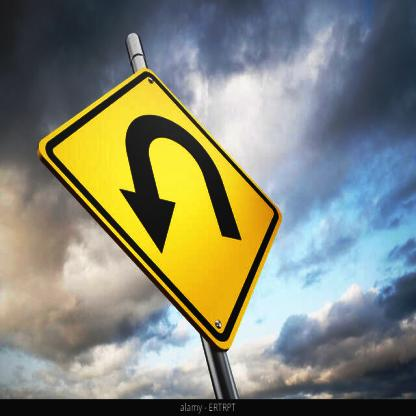U-turn: (32, 70, 284, 352)
